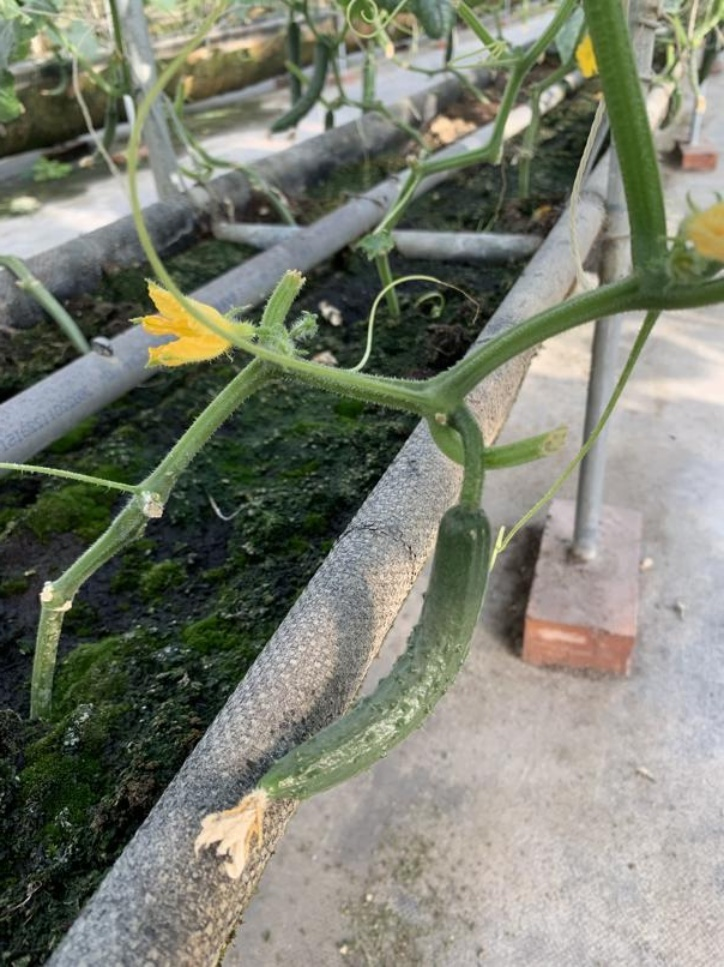bud: (132, 269, 259, 364)
growth: (192, 498, 501, 845)
